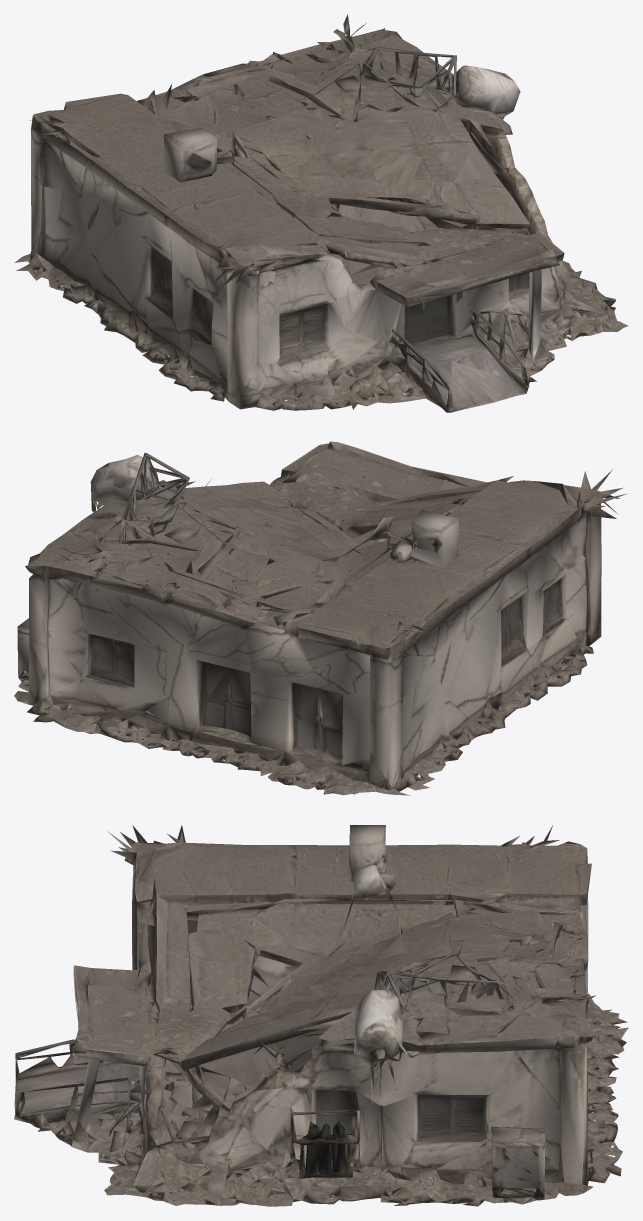
Rendered from clinic_wreck.glb.
3 views of the same model, one above another, from view 1: azimuth 30°, elevation 25°; view 2: azimuth 150°, elevation 25°; view 3: azimuth 270°, elevation 25° (orthographic). The views are drawn at different scales.
Visible parts, largest first — view 1: wall, metal; view 2: wall, metal; view 3: metal, wall.
Boxes of the visible parts, left/top/right/bottom form: wall: left=28, top=14, right=616, bottom=412; metal: left=14, top=29, right=628, bottom=412; wall: left=17, top=442, right=627, bottom=794; metal: left=14, top=441, right=611, bottom=795; metal: left=14, top=830, right=628, bottom=1206; wall: left=14, top=825, right=627, bottom=1206.
Bounding box in the file's own units: 11.97 × 5.35 × 13.92.
1 material, 1 textured.
